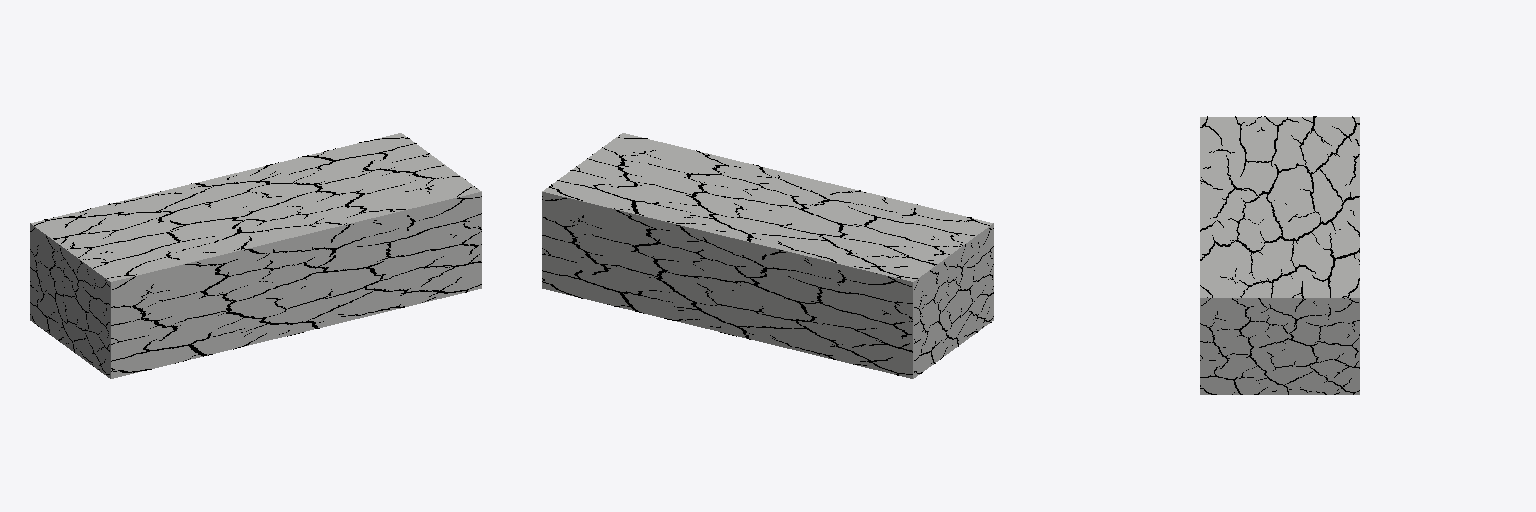
3 renders of one model, left to right at view 1: azimuth 30°, elevation 25°; view 2: azimuth 150°, elevation 25°; view 3: azimuth 270°, elevation 25°, orthographic.
Parts seen in each view (by area): view 1: Hull1, Hull2, Hull7, Hull4; view 2: Hull1, Hull6, Hull7, Hull4; view 3: Hull1, Hull7, Hull3.
Boxes of the visible parts, x1=… form: Hull1: x1=30, y1=133, x2=481, y2=378; Hull2: x1=111, y1=196, x2=481, y2=372; Hull7: x1=34, y1=137, x2=476, y2=278; Hull4: x1=30, y1=228, x2=109, y2=374; Hull1: x1=542, y1=133, x2=993, y2=378; Hull6: x1=542, y1=196, x2=912, y2=375; Hull7: x1=549, y1=135, x2=989, y2=278; Hull4: x1=914, y1=228, x2=993, y2=373; Hull1: x1=1200, y1=117, x2=1359, y2=394; Hull7: x1=1200, y1=116, x2=1359, y2=297; Hull3: x1=1200, y1=298, x2=1359, y2=394.
Size of the model in its own units: 16.04 by 4.04 by 6.04.
Materials: 3 (2 with a texture image).